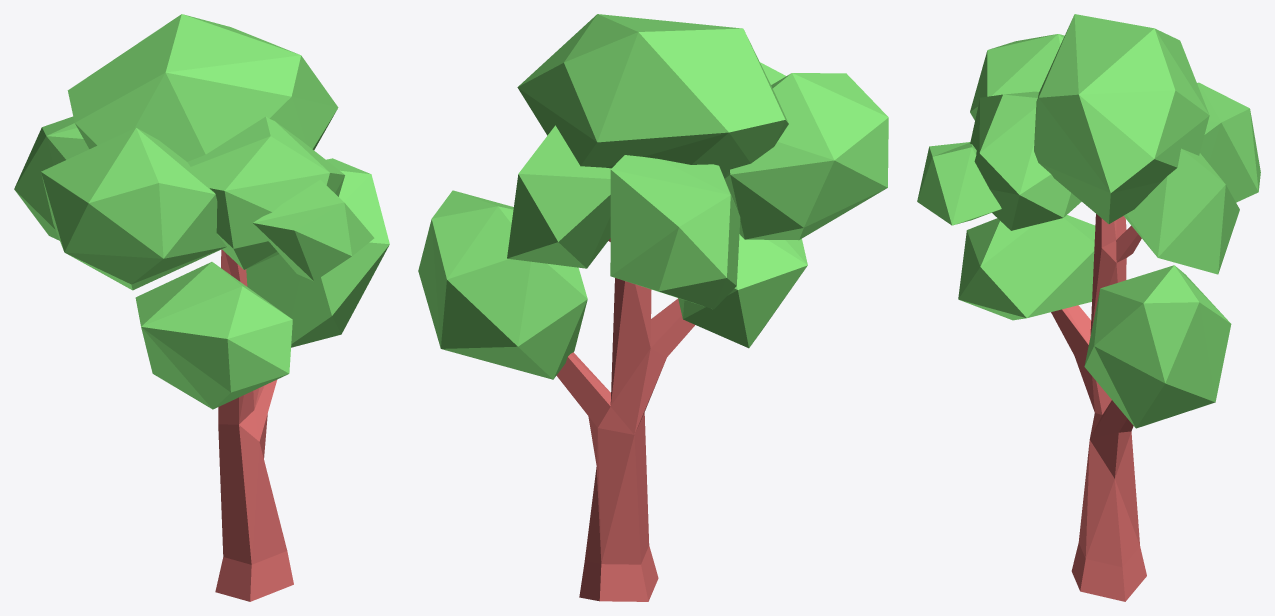
Rendered from tree_6.fbx.
The picture shows the model from 3 angles, left to right: view 1: azimuth 30°, elevation 25°; view 2: azimuth 150°, elevation 25°; view 3: azimuth 270°, elevation 25°; orthographic projection. The views are drawn at different scales.
Parts seen in each view (by area): view 1: tree_6; view 2: tree_6; view 3: tree_6.
Part boxes in pixels (x1=…): tree_6: x1=14, y1=14, x2=389, y2=601; tree_6: x1=418, y1=14, x2=888, y2=601; tree_6: x1=917, y1=14, x2=1260, y2=601.
Bounding box in the file's own units: 826 × 1175 × 677.
